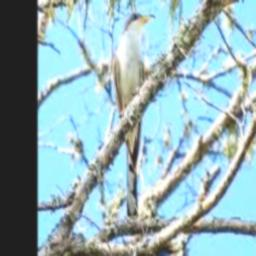Cuckoo: (112, 12, 154, 224)
